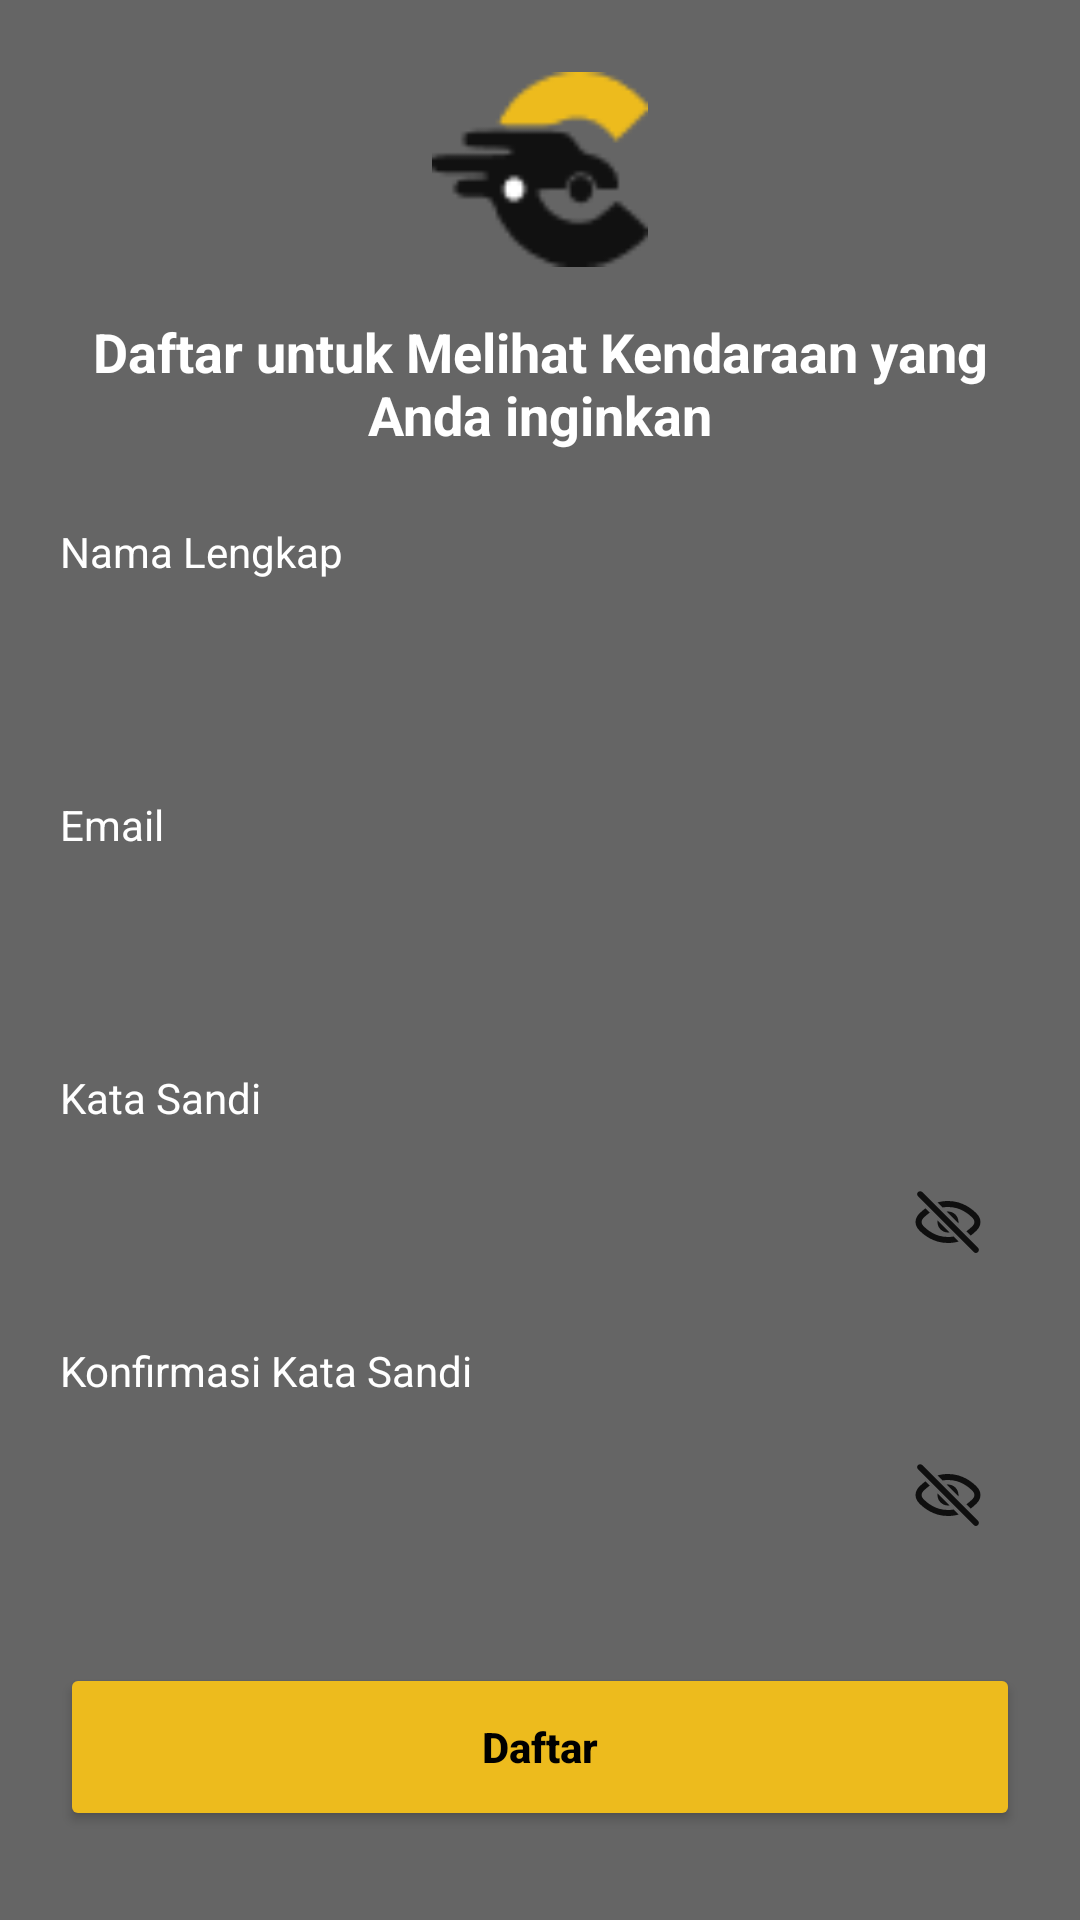

Point at icon controls on the screen. Image size 1080px x 1920px, points as (x,y).
eye off: (948,1222), (948,1495)
